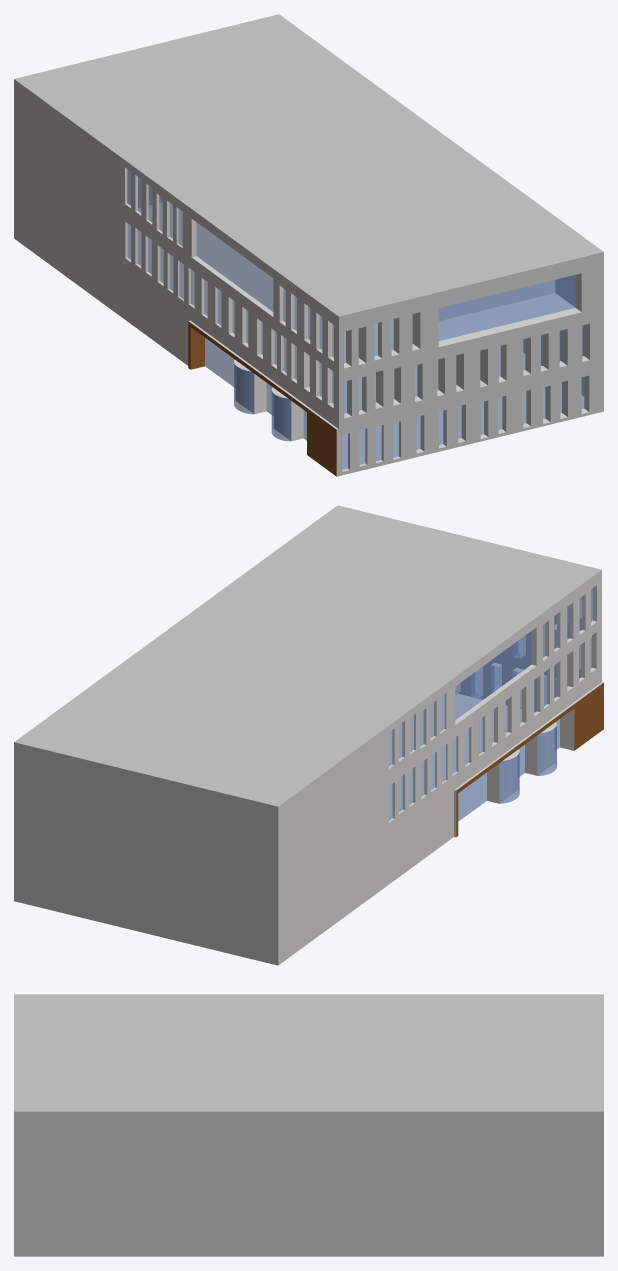
Rendered from bib.obj.
3 renders of one model, top to bottom at view 1: azimuth 30°, elevation 25°; view 2: azimuth 150°, elevation 25°; view 3: azimuth 270°, elevation 25°, orthographic. The views are drawn at different scales.
Visible parts, largest first — view 1: Mesh1 Model; view 2: Mesh1 Model; view 3: Mesh1 Model.
Boxes of the visible parts, x1=… form: Mesh1 Model: x1=14, y1=14, x2=603, y2=476; Mesh1 Model: x1=14, y1=505, x2=603, y2=965; Mesh1 Model: x1=14, y1=994, x2=603, y2=1256.
Size of the model in its own units: 53.53 by 29.89 by 110.
